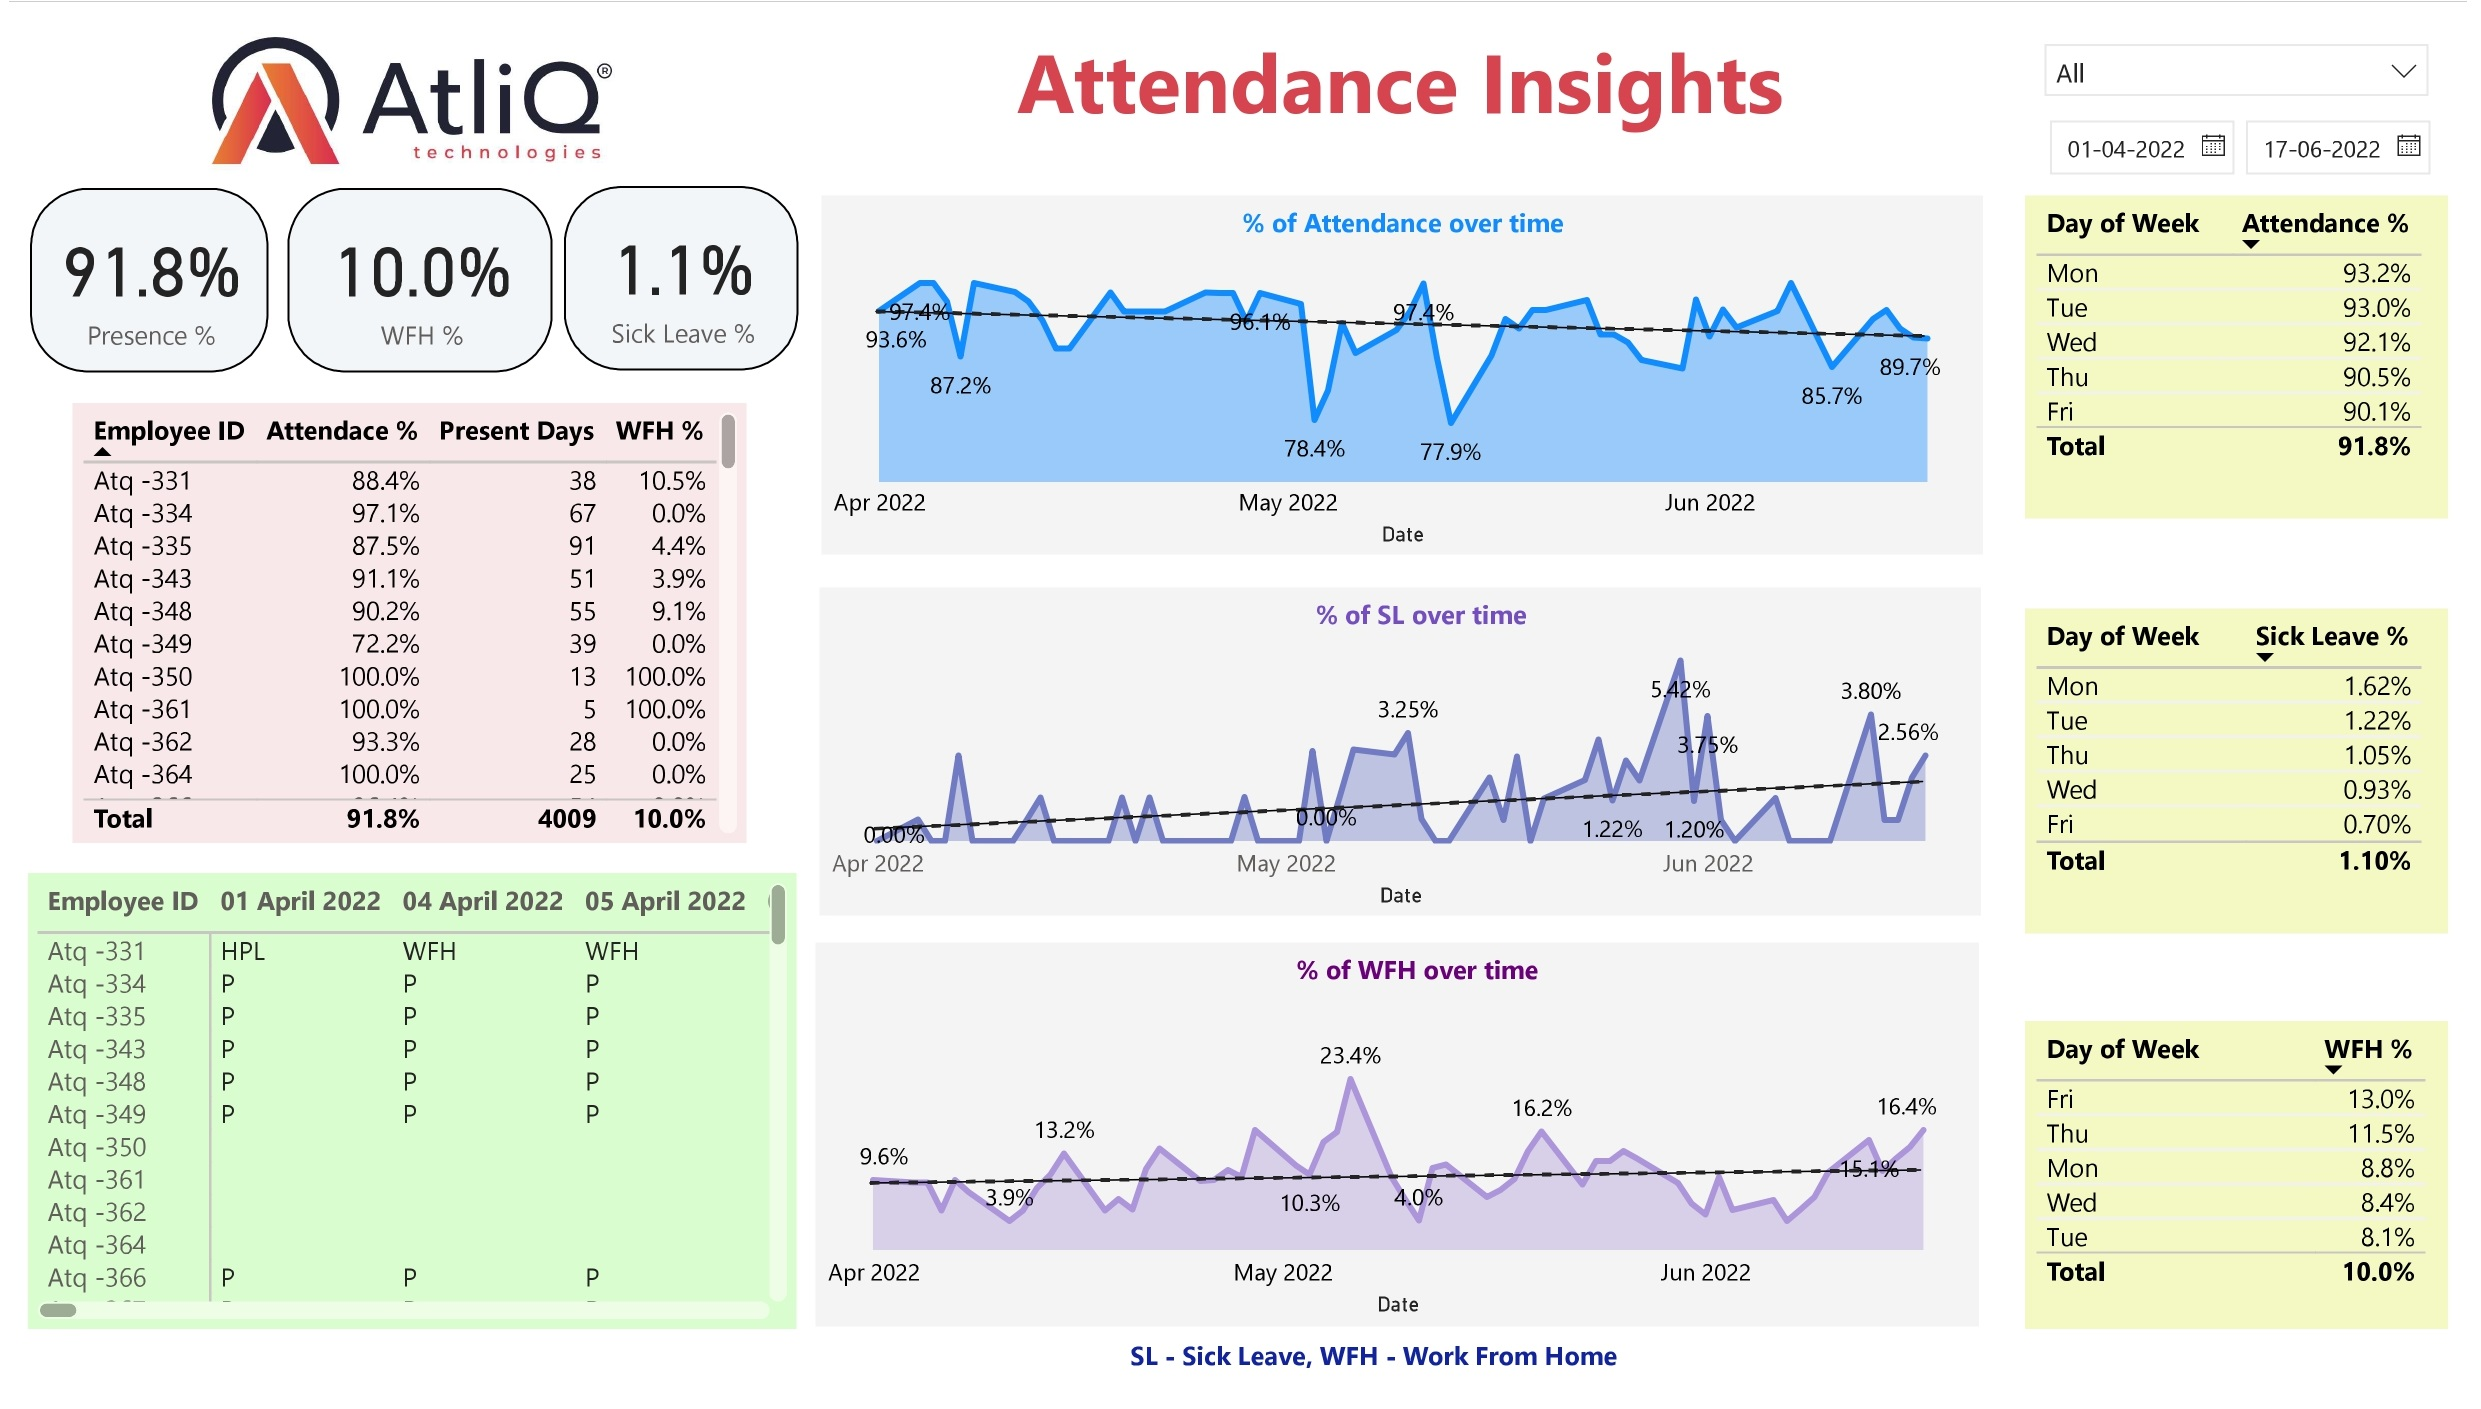

Layout of this report page (visuals, bound fields, positions):
{"tool":"powerbi","page":{"name":"Presence Insights","canvas":[1280,720],"ordinal":0},"visuals":[{"type":"tableEx","fields":{"Values":["Final Data.Employee ID","Measures (2).Attendace %","Measures (2).Present Days","Measures (2).WFH %"]},"box":[33.1,208.8,351.4,229],"z":0},{"type":"slicer","fields":{"Values":["Final Data.Date"]},"box":[1049.8,51.8,220.3,46.1],"z":1000},{"type":"slicer","fields":{"Values":["Final Data.MMM YY"]},"box":[1049.8,11.5,220.3,47.5],"z":2000},{"type":"textbox","box":[506.9,7.2,434.9,80.6],"z":3000},{"type":"areaChart","fields":{"Category":["Final Data.MMM YY","Final Data.Date"],"Y":["Measures (2).WFH %"]},"box":[419.8,522.9,606.2,167],"z":3000,"group":"g3"},{"type":"card","fields":{"Values":["Measures (2).Attendace %"]},"box":[10.7,97.4,124,96.3],"z":4000,"group":"g4"},{"type":"pivotTable","fields":{"Rows":["Final Data.Employee ID"],"Columns":["Final Data.Date"],"Values":["Min(Final Data.Value)"]},"box":[10.1,453.6,400.3,237.6],"z":4000},{"type":"card","fields":{"Values":["Measures (2).WFH %"]},"box":[144.3,97.4,138.8,96.3],"z":5000,"group":"g4"},{"type":"textbox","box":[578.9,691.2,290.9,28.8],"z":5000},{"type":"tableEx","fields":{"Values":["Final Data.day of week","Measures (2).Attendace %"]},"box":[1049.8,100.8,220.3,168.5],"z":6000},{"type":"areaChart","fields":{"Category":["Final Data.MMM YY","Final Data.Date"],"Y":["Measures (2).SL %"]},"box":[421.9,319,604.8,157],"z":6000,"group":"g2"},{"type":"card","fields":{"Values":["Measures (2).SL %"]},"box":[289.2,96.5,121.4,96.3],"z":7000,"group":"g4"},{"type":"tableEx","fields":{"Values":["Final Data.day of week","Measures (2).SL %"]},"box":[1049.8,316.1,220.3,168.5],"z":7000},{"type":"areaChart","fields":{"Category":["Final Data.WeekNo","Final Data.Date"],"Y":["Measures (2).Attendace %"]},"box":[423.4,123.2,604.8,164.2],"z":8000,"group":"g1"},{"type":"tableEx","fields":{"Values":["Final Data.day of week","Measures (2).WFH %"]},"box":[1049.8,531.4,220.3,159.8],"z":8000},{"type":"image","box":[93.6,4.3,231.8,93.6],"z":9000},{"type":"textbox","box":[639.3,304.6,193,28.8],"z":9000,"group":"g2"},{"type":"group","id":"g1","title":"Group 1","box":[423.4,100.8,604.8,187.2],"z":10000},{"type":"textbox","box":[634.4,490.5,197.3,41.8],"z":10000,"group":"g3"},{"type":"group","id":"g2","title":"Group 2","box":[421.9,304.6,604.8,171.4],"z":11000},{"type":"group","id":"g3","title":"Group 3","box":[419.8,490.5,606.2,199.5],"z":12000},{"type":"group","id":"g4","title":"Group 4","box":[10.7,96.5,399.9,97.2],"z":13000},{"type":"textbox","box":[633.8,100.8,185.8,36],"z":15000,"group":"g1"}]}

Visuals, with their boxes in screenshot pixels (x1, y1, x2, y2), scaled from the page's 1280x720 canvas onto the 2481x1409 screenshot:
tableEx - Final Data.Employee ID x Measures (2).Attendace %: [left=64, top=409, right=745, bottom=857]
slicer - Final Data.Date: [left=2035, top=101, right=2462, bottom=192]
slicer - Final Data.MMM YY: [left=2035, top=23, right=2462, bottom=115]
textbox: [left=983, top=14, right=1825, bottom=172]
areaChart - Final Data.MMM YY x Final Data.Date: [left=814, top=1023, right=1989, bottom=1350]
card - Measures (2).Attendace %: [left=21, top=191, right=261, bottom=379]
pivotTable - Final Data.Employee ID x Final Data.Date: [left=20, top=888, right=795, bottom=1353]
card - Measures (2).WFH %: [left=280, top=191, right=549, bottom=379]
textbox: [left=1122, top=1353, right=1686, bottom=1408]
tableEx - Final Data.day of week x Measures (2).Attendace %: [left=2035, top=197, right=2462, bottom=527]
areaChart - Final Data.MMM YY x Final Data.Date: [left=818, top=624, right=1990, bottom=932]
card - Measures (2).SL %: [left=561, top=189, right=796, bottom=377]
tableEx - Final Data.day of week x Measures (2).SL %: [left=2035, top=619, right=2462, bottom=948]
areaChart - Final Data.WeekNo x Final Data.Date: [left=821, top=241, right=1993, bottom=562]
tableEx - Final Data.day of week x Measures (2).WFH %: [left=2035, top=1040, right=2462, bottom=1353]
image: [left=181, top=8, right=631, bottom=192]
textbox: [left=1239, top=596, right=1613, bottom=652]
"Group 1" group: [left=821, top=197, right=1993, bottom=564]
textbox: [left=1230, top=960, right=1612, bottom=1042]
"Group 2" group: [left=818, top=596, right=1990, bottom=932]
"Group 3" group: [left=814, top=960, right=1989, bottom=1350]
"Group 4" group: [left=21, top=189, right=796, bottom=379]
textbox: [left=1228, top=197, right=1589, bottom=268]
